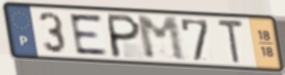3: (37, 11, 68, 55)
7: (178, 17, 210, 62)
E: (67, 12, 110, 56)
M: (134, 15, 189, 63)
P: (107, 13, 143, 60)
T: (216, 17, 246, 65)
